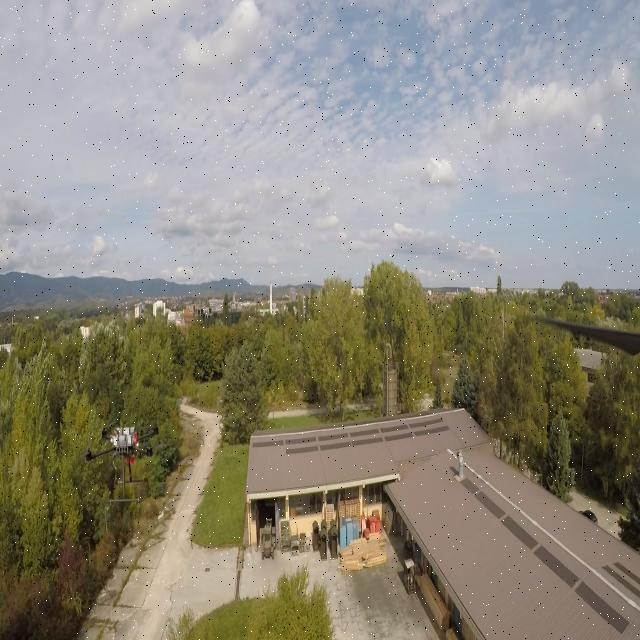UAV: (82, 413, 160, 505)
